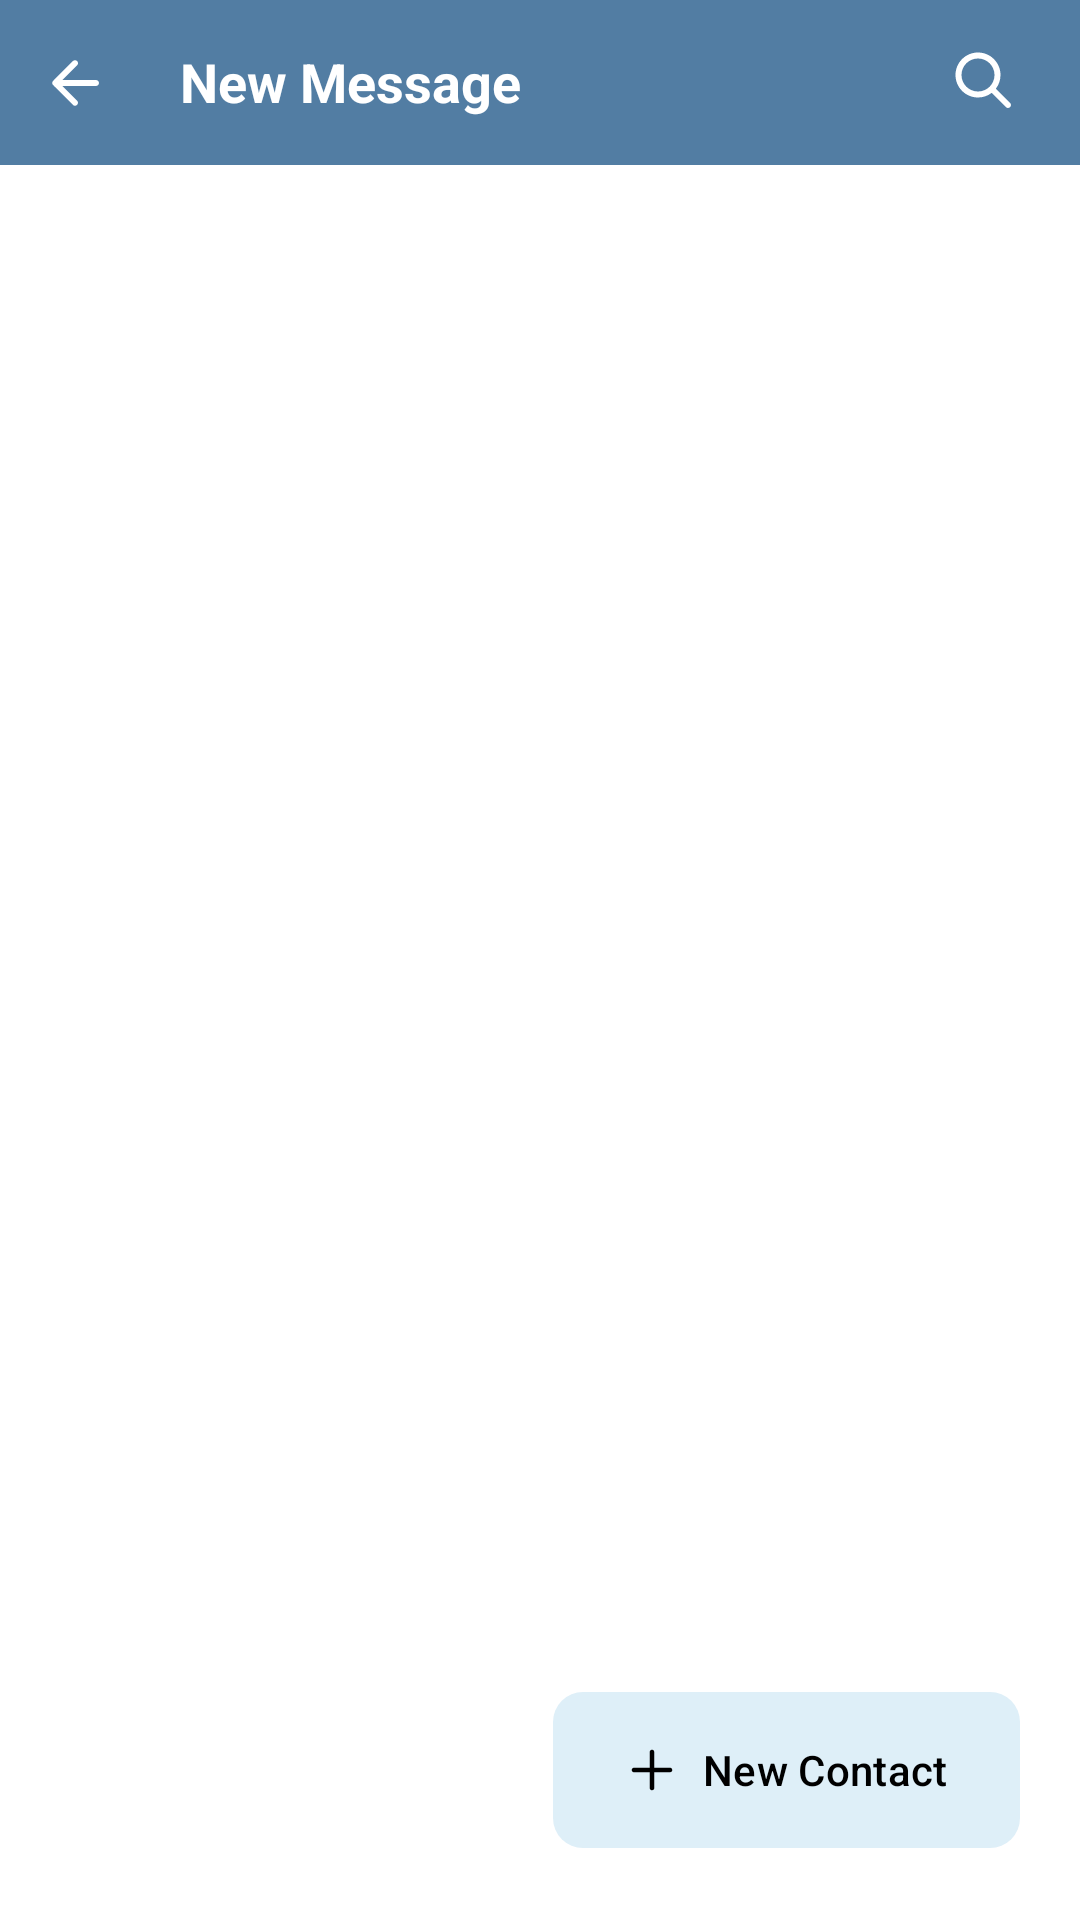

Icon click points for this 1080px×1920px phone screenshot, format point (x, y):
back: point (75, 83)
search: point (983, 80)
